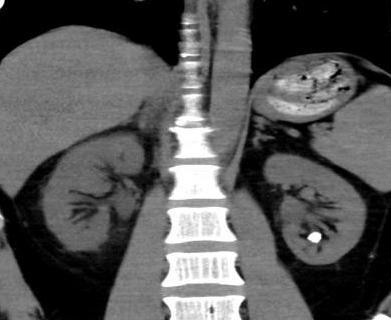Tas_Var: (304, 231, 324, 245)
